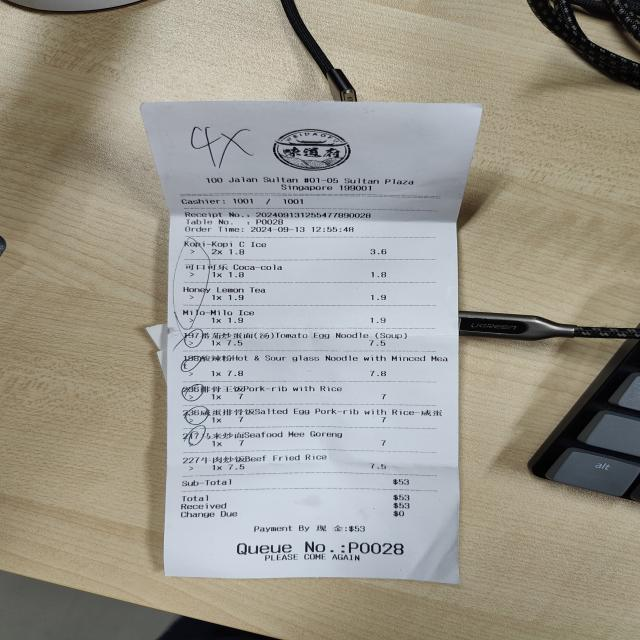bill_region: (168, 237, 450, 523)
